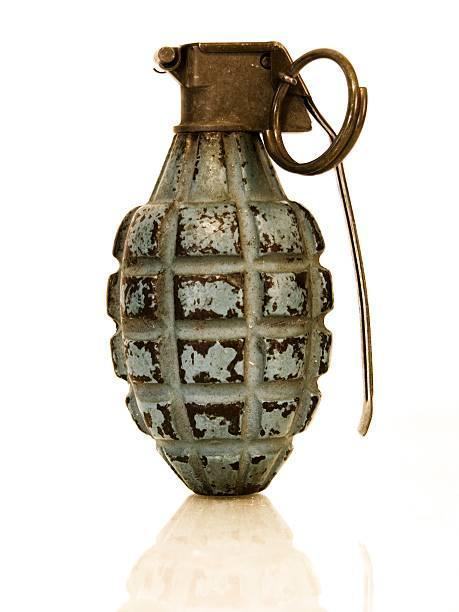Grenade: (105, 40, 374, 498)
